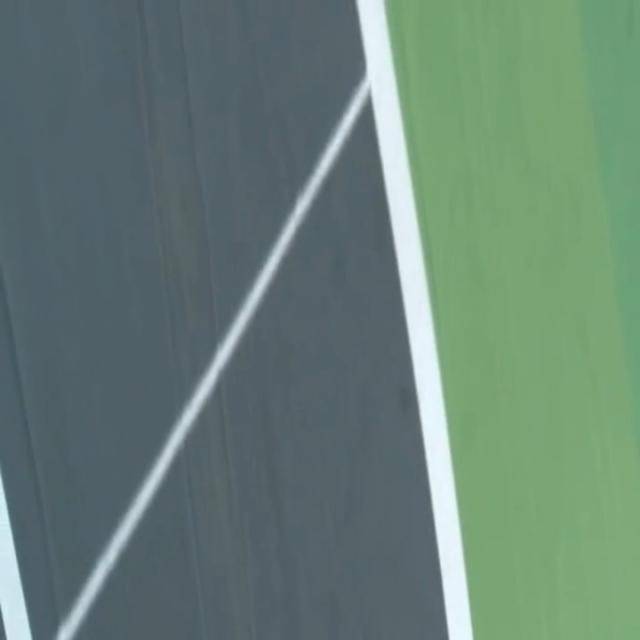right: (357, 0, 472, 639)
